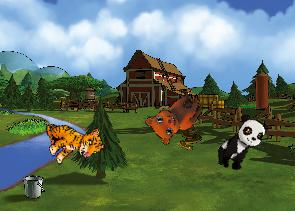bear: (140, 80, 208, 150)
panda: (211, 110, 271, 177)
tiger: (40, 109, 106, 170)
